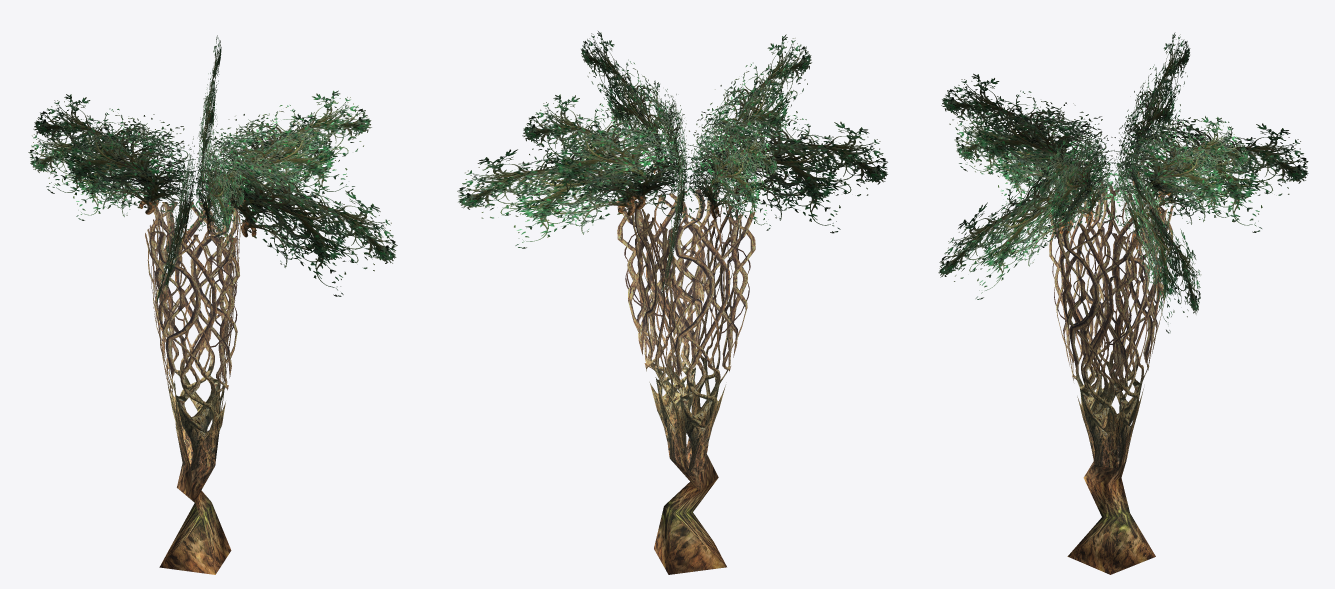
File: decd_flutevine_l2.fbx
The picture shows the model from 3 angles, left to right: view 1: azimuth 30°, elevation 25°; view 2: azimuth 150°, elevation 25°; view 3: azimuth 270°, elevation 25°; orthographic projection. The views are drawn at different scales.
Visible parts, largest first — view 1: mesh_node; view 2: mesh_node; view 3: mesh_node.
Boxes of the visible parts, <box> form: mesh_node: <box>28,35,397,574</box>; mesh_node: <box>457,31,887,574</box>; mesh_node: <box>938,32,1308,574</box>.
Size of the model in its own units: 11.93 by 16.63 by 12.11.
